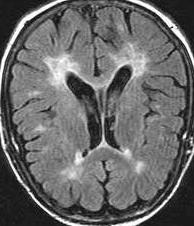Normal_Brain: (6, 1, 193, 226)
